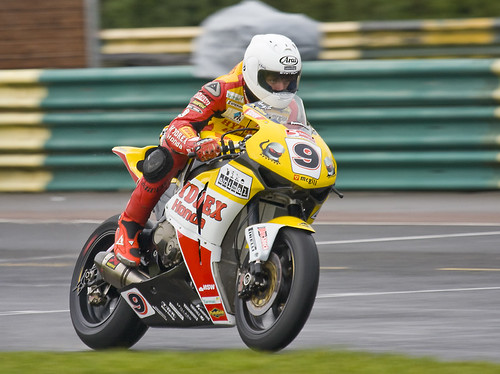helmet: (239, 38, 309, 104)
